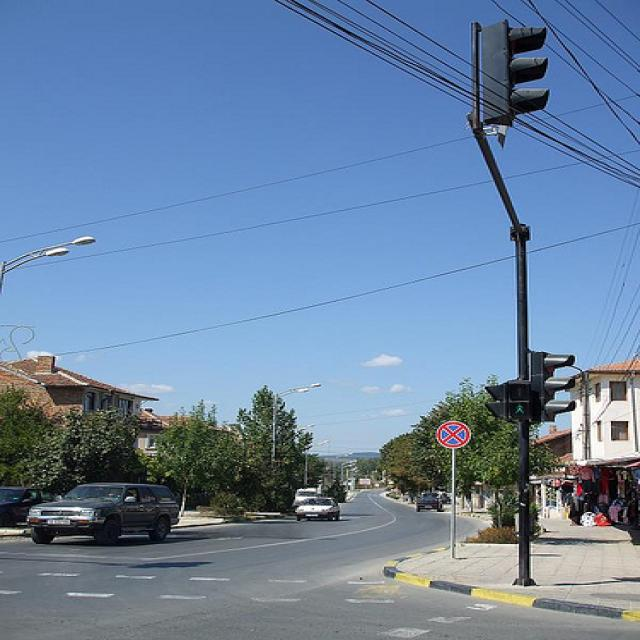Vehicle: (23, 484, 181, 546), (0, 486, 50, 527), (295, 498, 342, 516), (292, 487, 318, 512), (416, 496, 442, 512)
